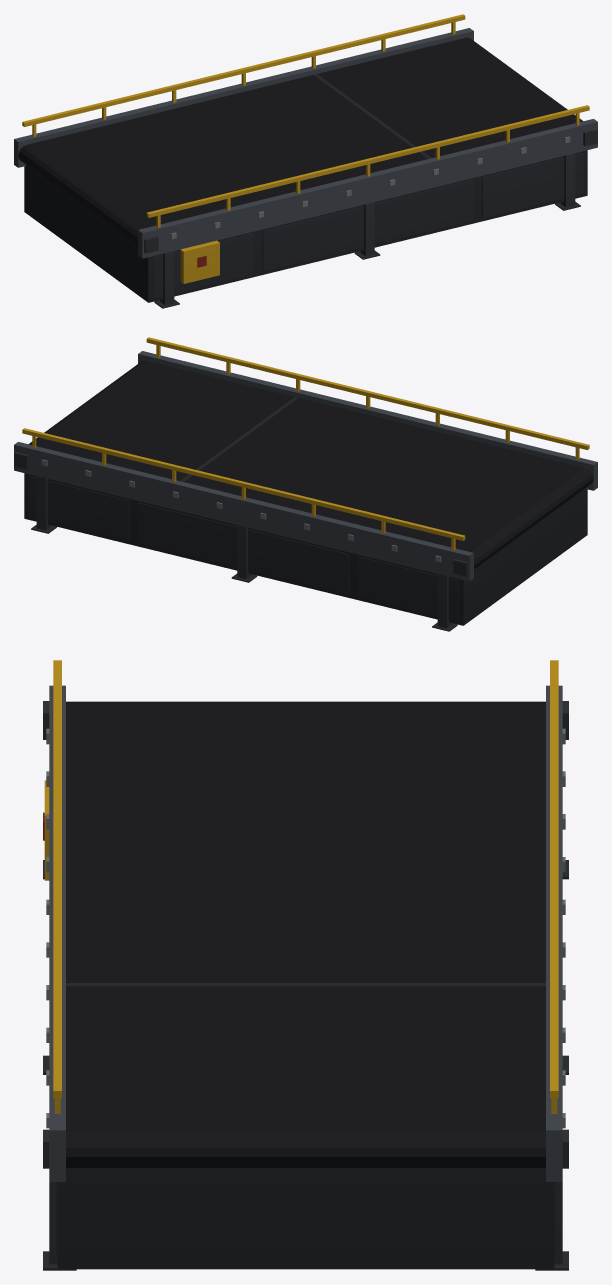
Rendered from conveyor.belt.safety_yellow.glb.
The picture shows the model from 3 angles, top to bottom: view 1: azimuth 30°, elevation 25°; view 2: azimuth 150°, elevation 25°; view 3: azimuth 270°, elevation 25°; orthographic projection. The views are drawn at different scales.
Parts seen in each view (by area): view 1: conveyor_belt_safety_yellow; view 2: conveyor_belt_safety_yellow; view 3: conveyor_belt_safety_yellow.
Boxes of the visible parts, left/top/right/bottom form: conveyor_belt_safety_yellow: left=14, top=14, right=597, bottom=308; conveyor_belt_safety_yellow: left=14, top=337, right=597, bottom=631; conveyor_belt_safety_yellow: left=43, top=660, right=568, bottom=1270.
Size of what is drawn, in the model's own units: 5 by 1 by 2.5.
